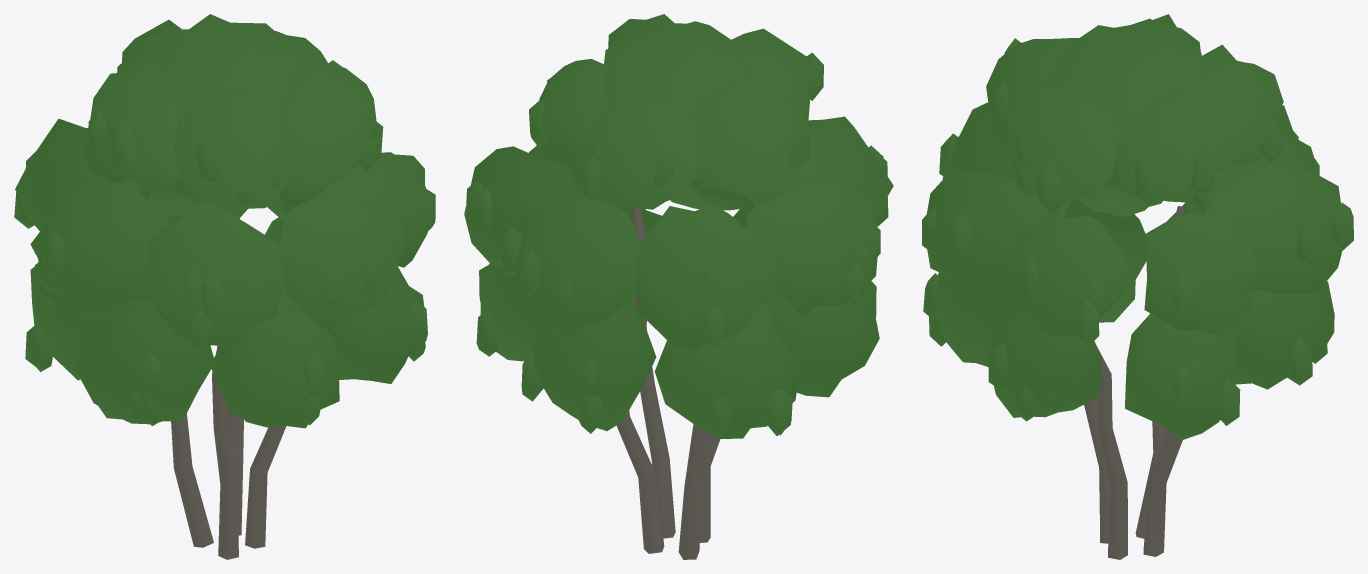
Rendered from Blender_MountainLaurel_1.glb.
3 renders of one model, left to right at view 1: azimuth 30°, elevation 25°; view 2: azimuth 150°, elevation 25°; view 3: azimuth 270°, elevation 25°, orthographic.
Visible parts, largest first — view 1: Blender_MountainLaurel_1; view 2: Blender_MountainLaurel_1; view 3: Blender_MountainLaurel_1.
Boxes of the visible parts, bbox=[...] form: Blender_MountainLaurel_1: bbox=[14, 14, 435, 559]; Blender_MountainLaurel_1: bbox=[464, 14, 893, 559]; Blender_MountainLaurel_1: bbox=[922, 14, 1353, 559].
Size of the model in its own units: 3.49 by 4.67 by 3.52.
